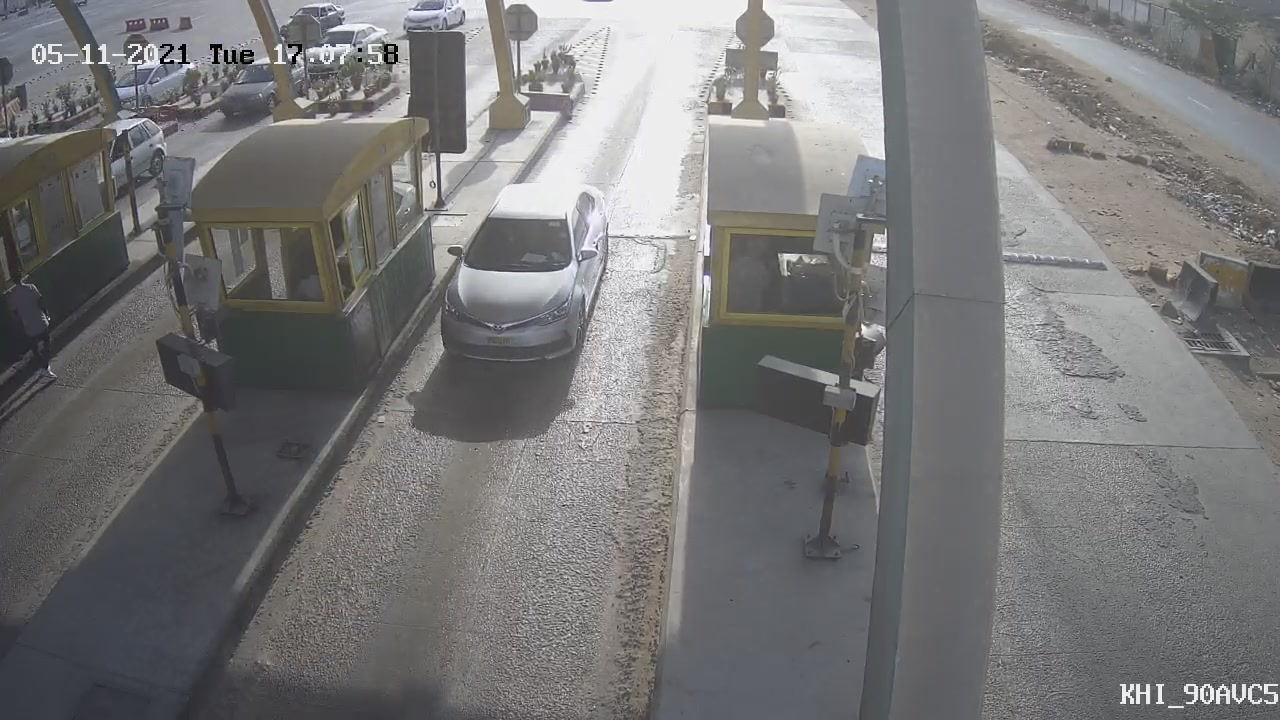F1: (413, 162, 631, 390)
